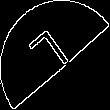L_SE: (30, 25, 80, 85)
